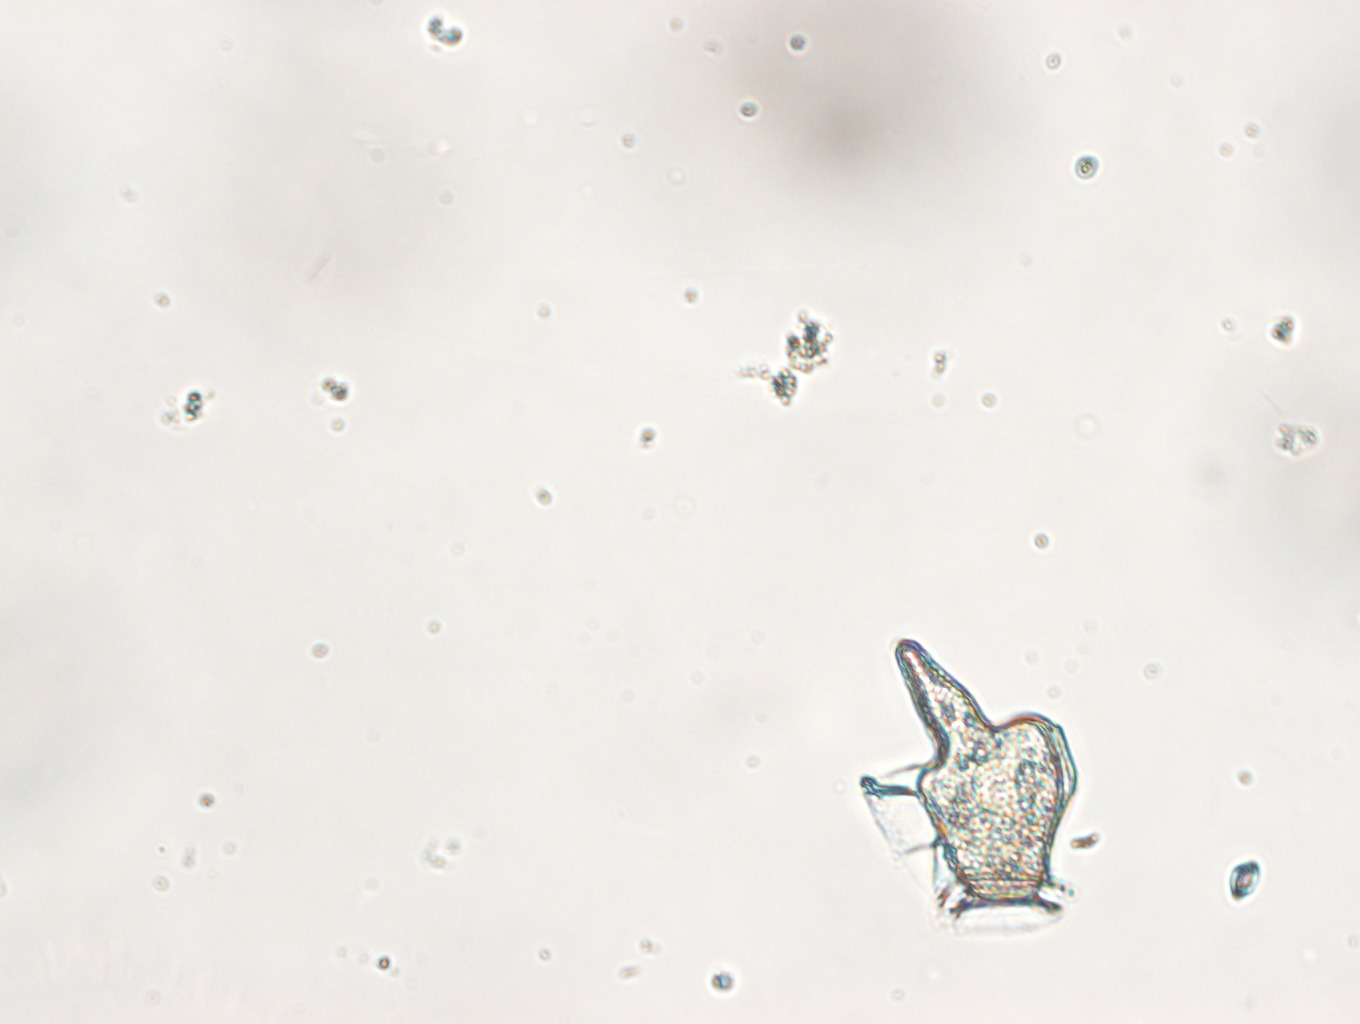dinophysis caudata: (857, 636, 1080, 936)
